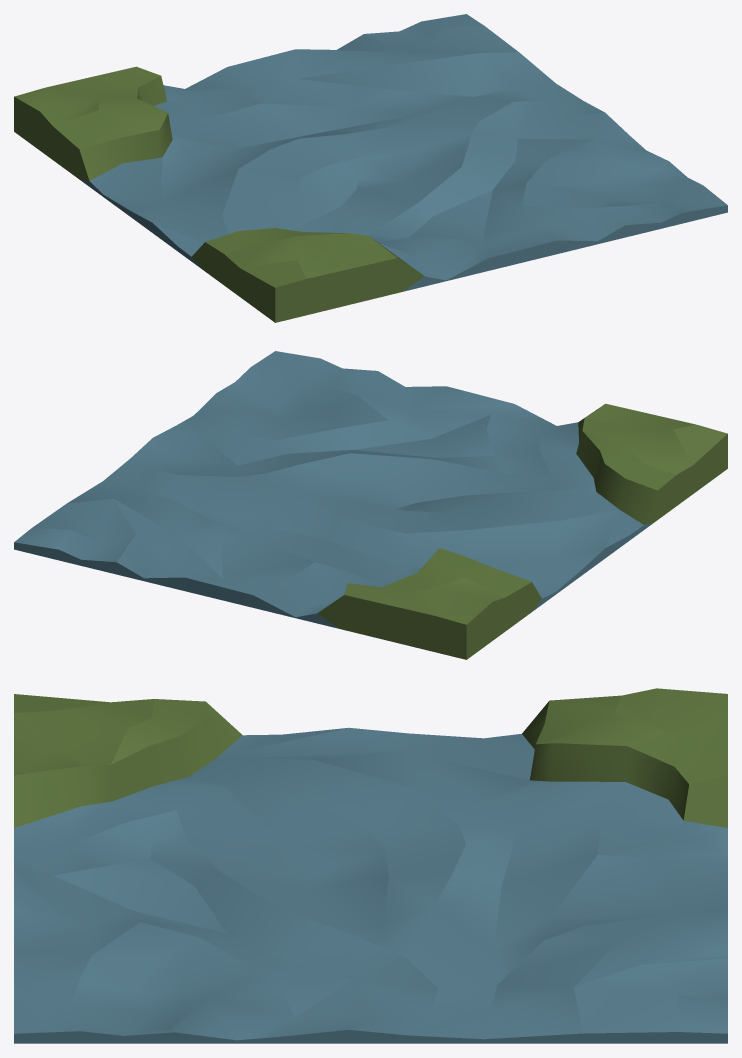
File: Water_River_Entrance_L.glb
The picture shows the model from 3 angles, top to bottom: view 1: azimuth 30°, elevation 25°; view 2: azimuth 150°, elevation 25°; view 3: azimuth 270°, elevation 25°; orthographic projection. The views are drawn at different scales.
Visible parts, largest first — view 1: Water_River_Entrance_L; view 2: Water_River_Entrance_L; view 3: Water_River_Entrance_L.
Part boxes in pixels (x1,y1,x2,y2): Water_River_Entrance_L: [14, 14, 727, 322]; Water_River_Entrance_L: [14, 351, 727, 659]; Water_River_Entrance_L: [14, 688, 727, 1043].
Bounding box in the file's own units: 1.47 × 0.1341 × 1.47.
